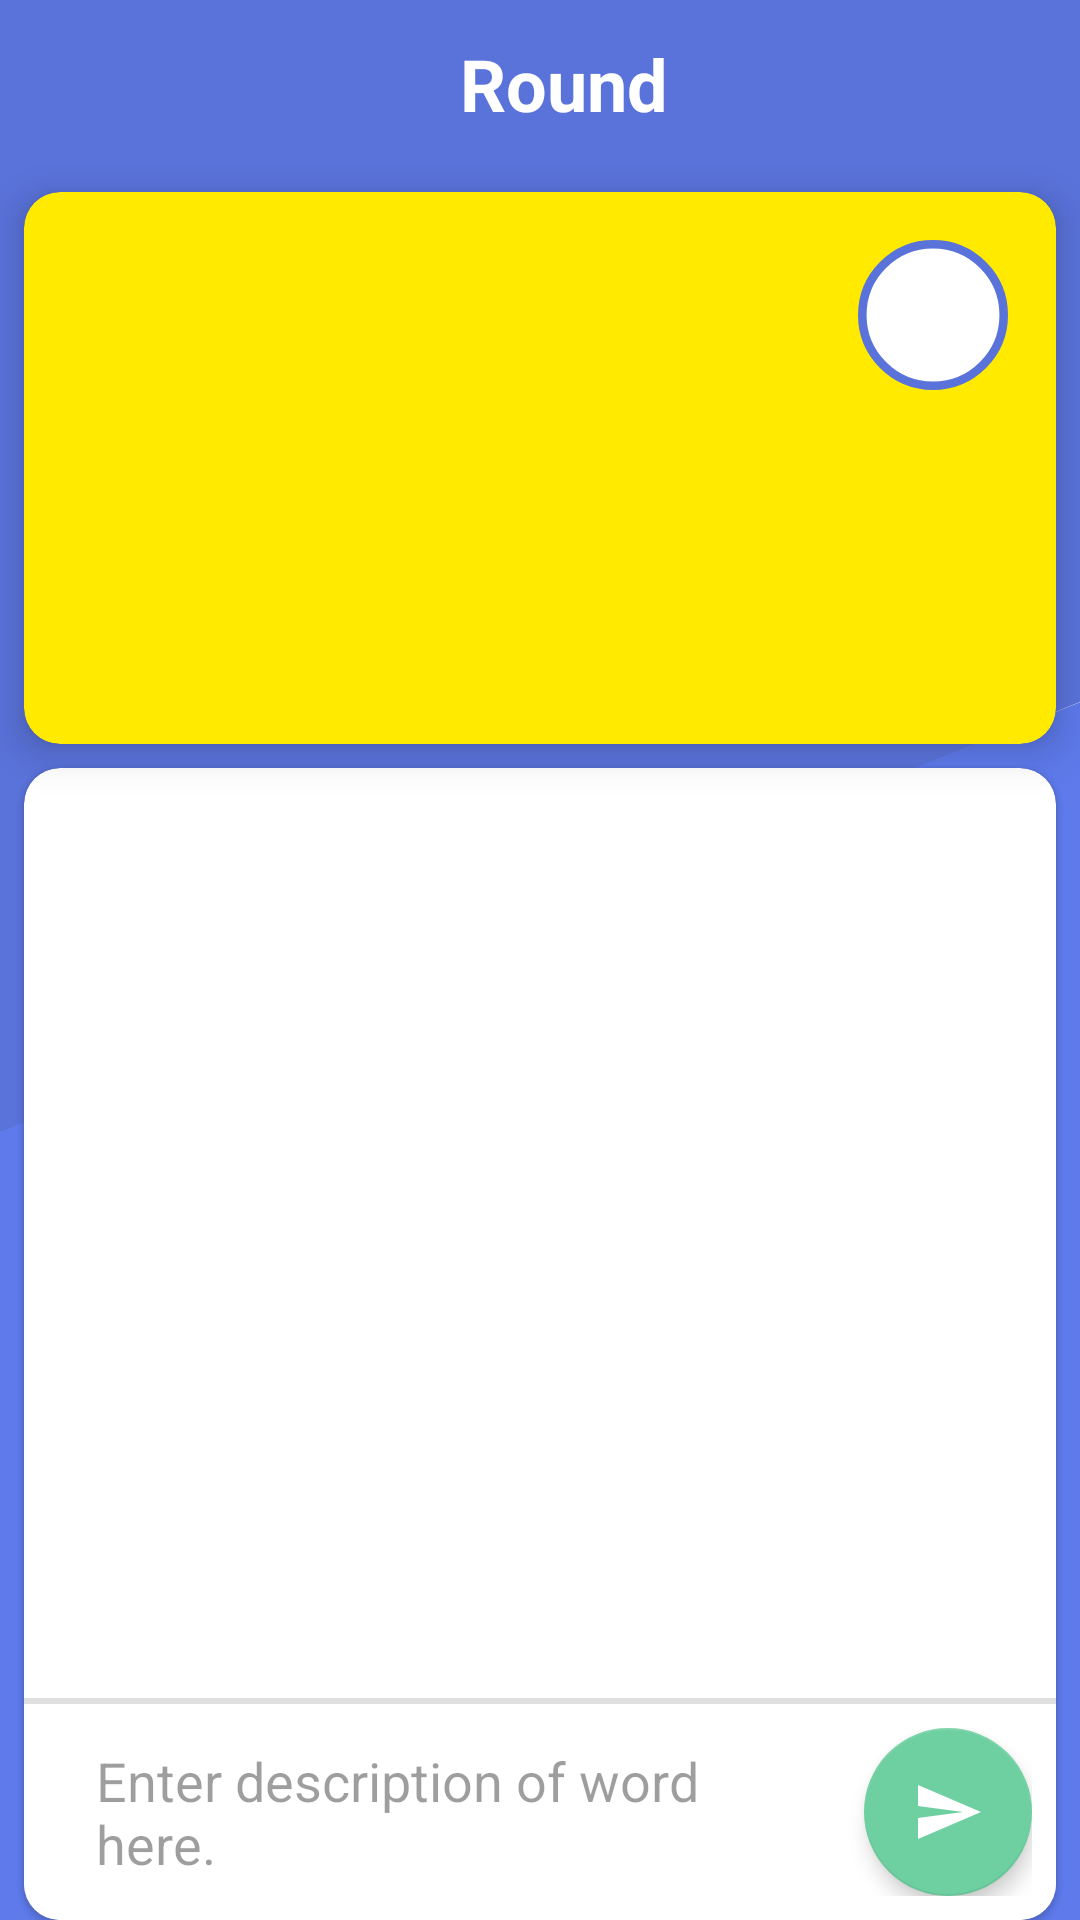

Named icons in this screenshot (1080w x 1920h) and their bounding boxes, bbox=[x1, y1, x2, y2]:
send: bbox=[864, 1728, 1032, 1896]
